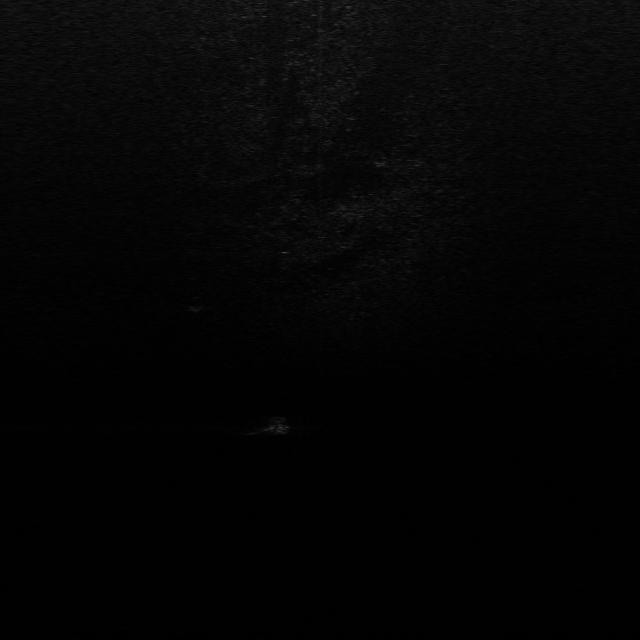ball: (262, 416, 294, 434)
circle cage: (184, 295, 210, 312)
